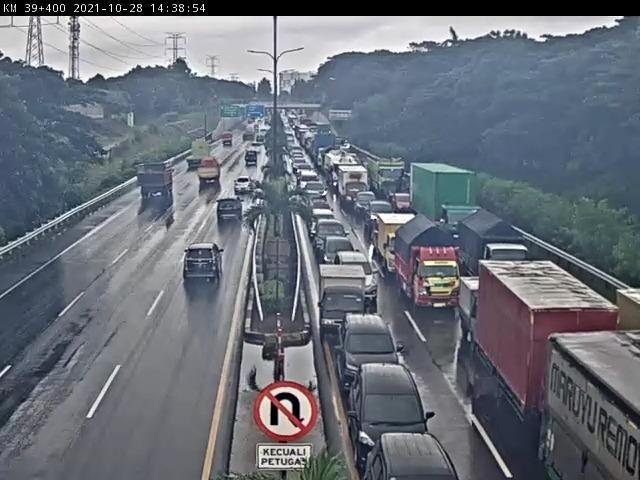car: (348, 364, 436, 464), (335, 314, 399, 398), (364, 432, 461, 480), (336, 252, 380, 302), (181, 240, 225, 284), (320, 236, 360, 276), (312, 218, 350, 258), (213, 198, 243, 230), (367, 199, 395, 231), (300, 189, 324, 221), (310, 207, 334, 237), (297, 168, 319, 196), (230, 178, 254, 198), (356, 192, 376, 216), (254, 132, 266, 144), (250, 142, 262, 154)
truck: (478, 258, 626, 446), (393, 216, 462, 313), (405, 159, 477, 247), (457, 206, 527, 284), (458, 274, 522, 350), (317, 261, 369, 337), (376, 212, 419, 276), (136, 159, 174, 199), (339, 165, 369, 207), (186, 136, 214, 170), (194, 156, 222, 188), (240, 126, 256, 146), (242, 149, 258, 169), (220, 132, 232, 146)
